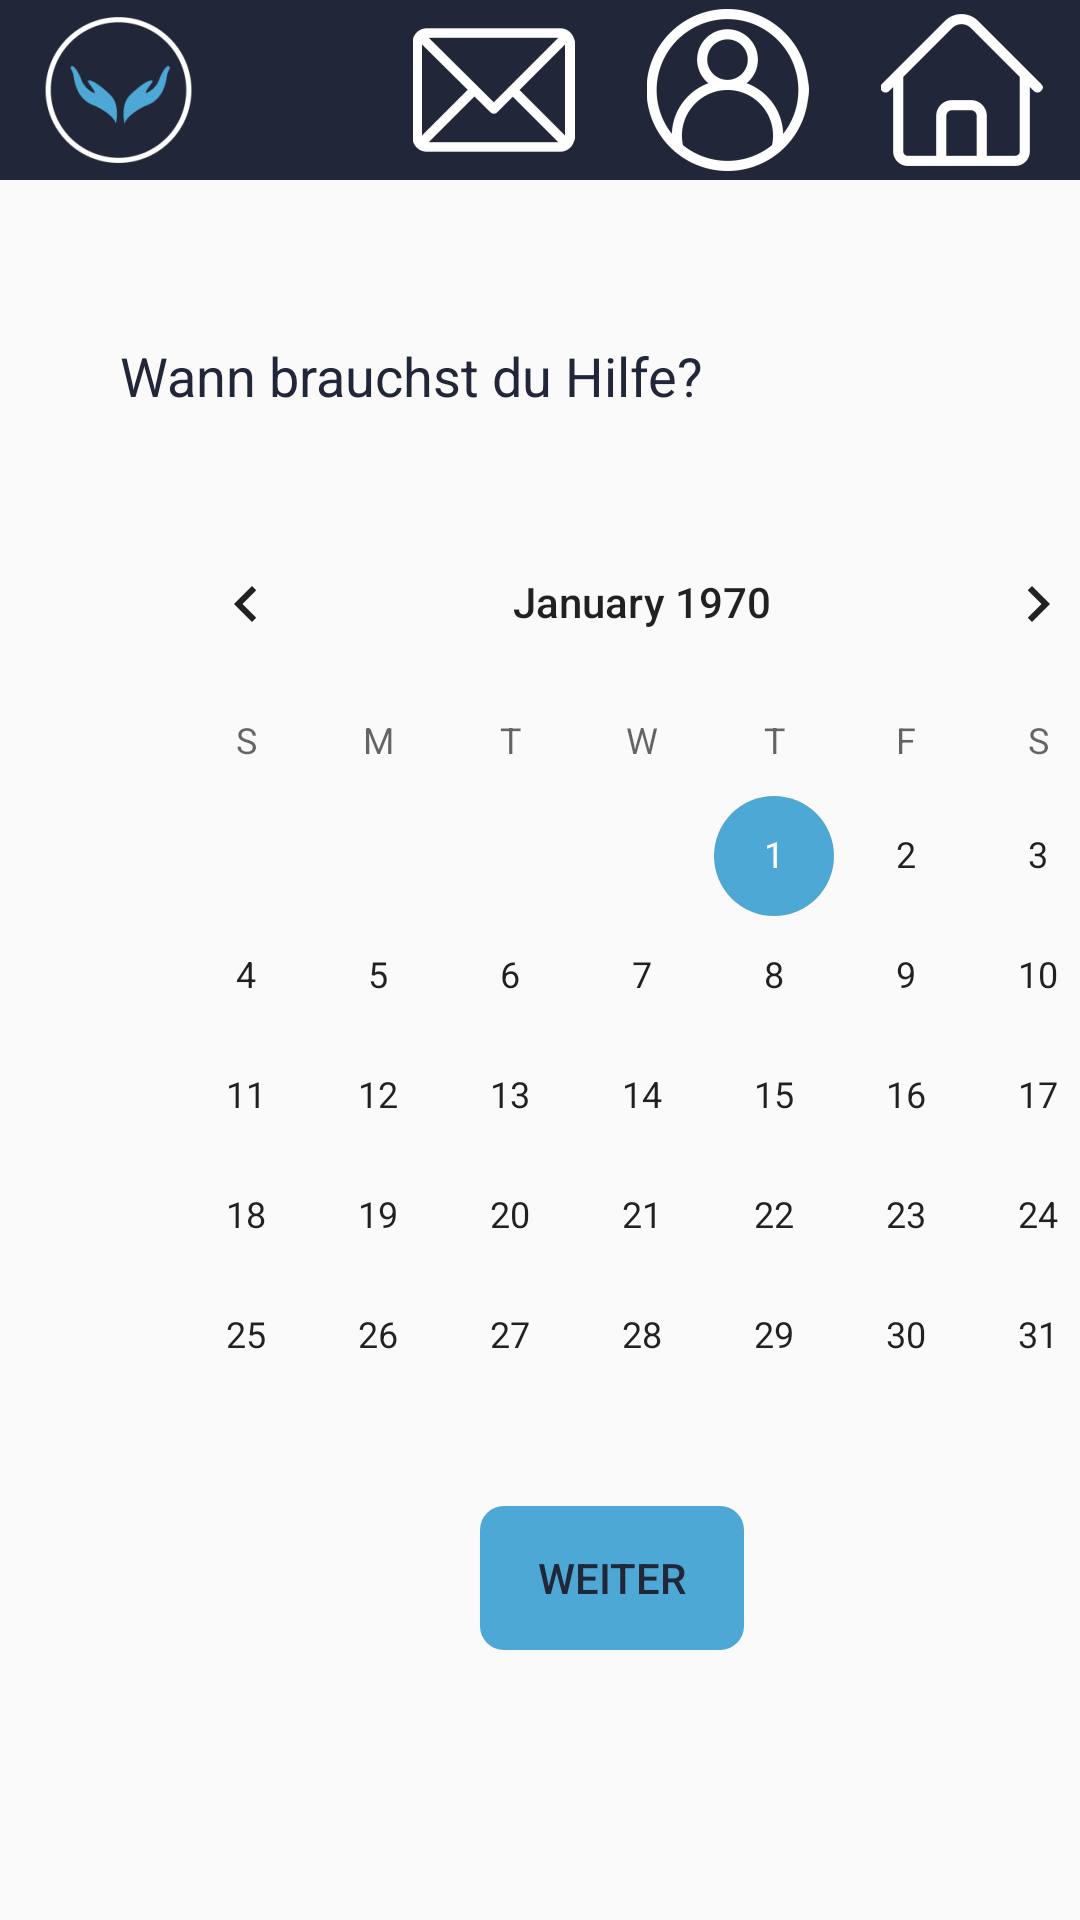

Icons on this 1080 x 1920 Android screen, each with its box as box=[x1, y1, x2, y2]:
home: box=[881, 14, 1043, 166]
message: box=[413, 28, 575, 152]
profile: box=[647, 9, 809, 171]
